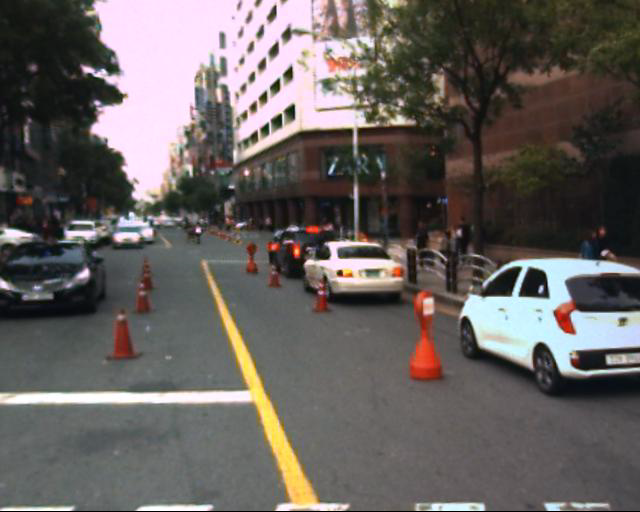person: (569, 218, 609, 301), (576, 216, 621, 277), (462, 207, 495, 264), (174, 212, 214, 254), (442, 207, 468, 270)
